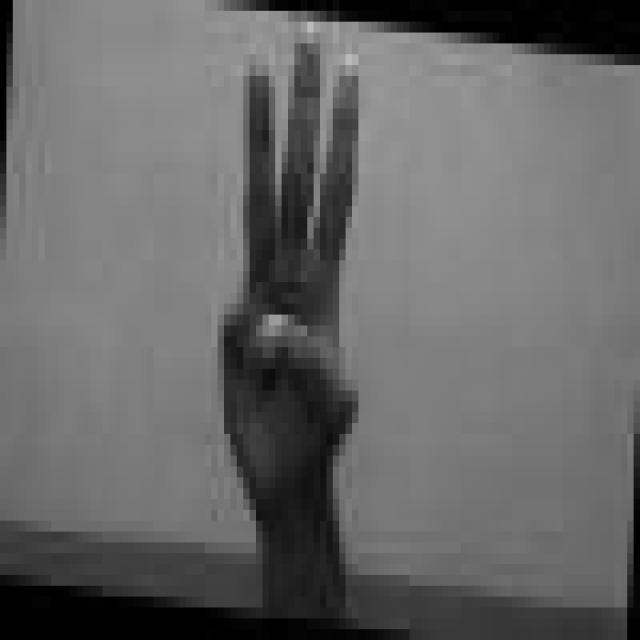W: (211, 22, 371, 510)
